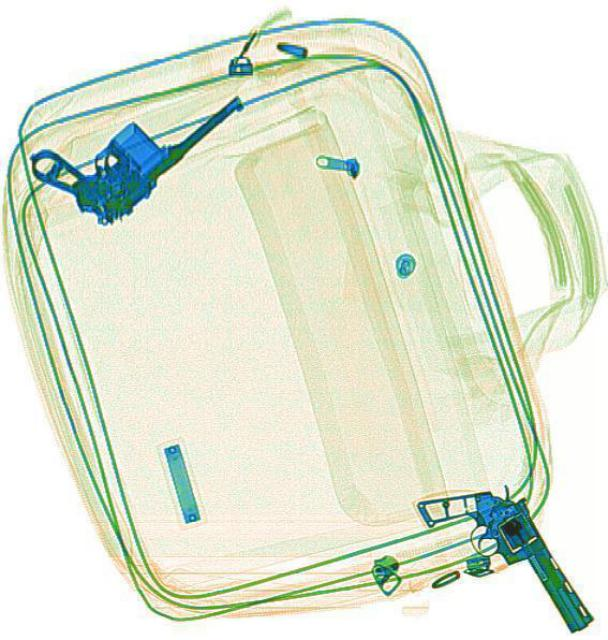Gun: (18, 26, 249, 242), (434, 464, 581, 638)
